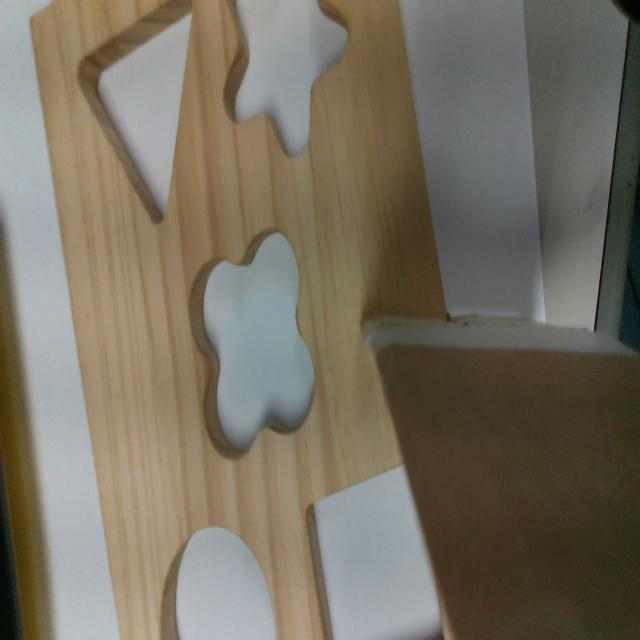circle: (160, 524, 276, 639)
flower: (187, 230, 314, 454)
square: (304, 464, 444, 638)
star: (221, 0, 350, 155)
triangle: (73, 0, 194, 225)
